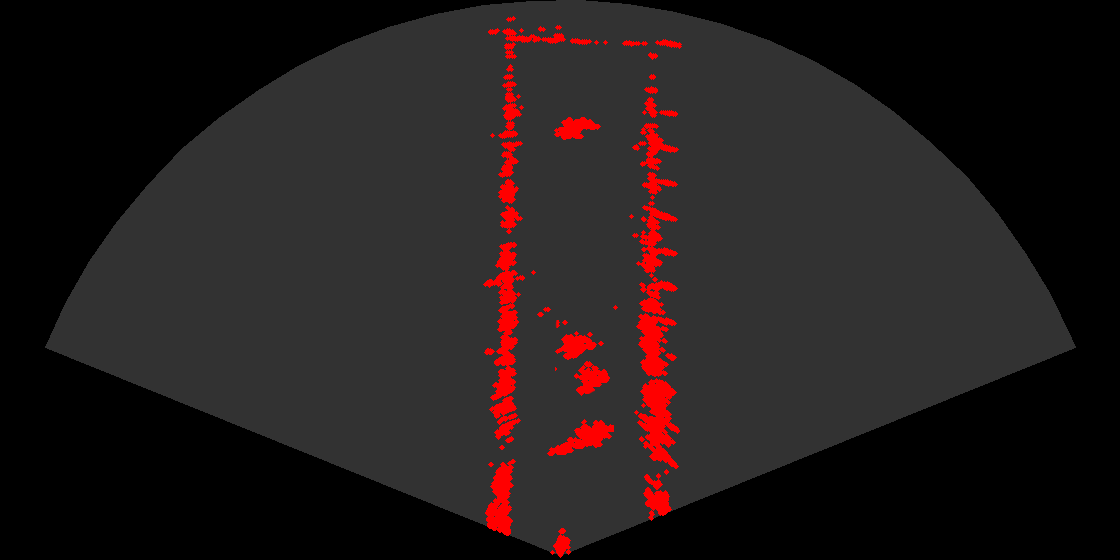AUV: (548, 115, 604, 147)
cage: (555, 320, 618, 404)
frogman: (546, 413, 614, 460)
